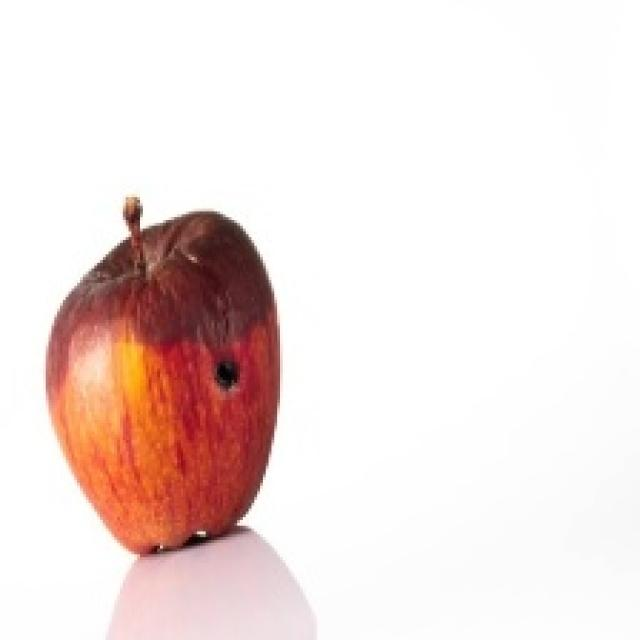rotten_apple: (56, 214, 278, 550)
